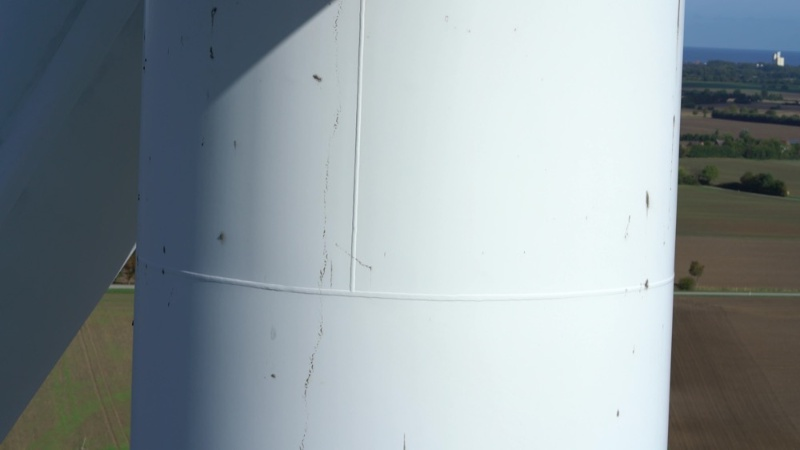weldseam: (133, 247, 673, 305), (346, 1, 372, 302)
